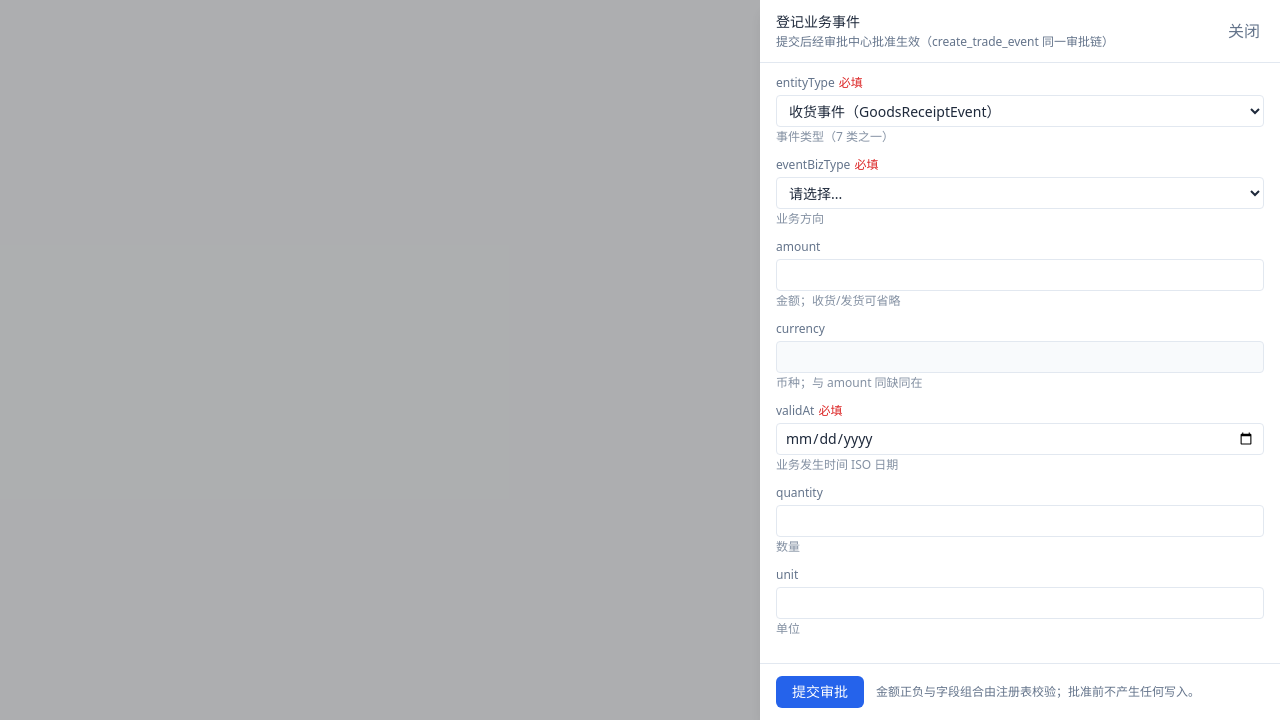
EventRegisterDrawer amount/currency 双向联动 › 方向二：amount 重新有值，currency 恢复可用并回到预填 CNY
Clear the number field labelled "amount": (1020, 275) top-left (776, 259), bottom-right (1264, 291)
Expected: the field labelled "currency" is disabled, top-left (776, 341), bottom-right (1264, 373)
In the number field labelled "amount": (1020, 275) top-left (776, 259), bottom-right (1264, 291), type "800"
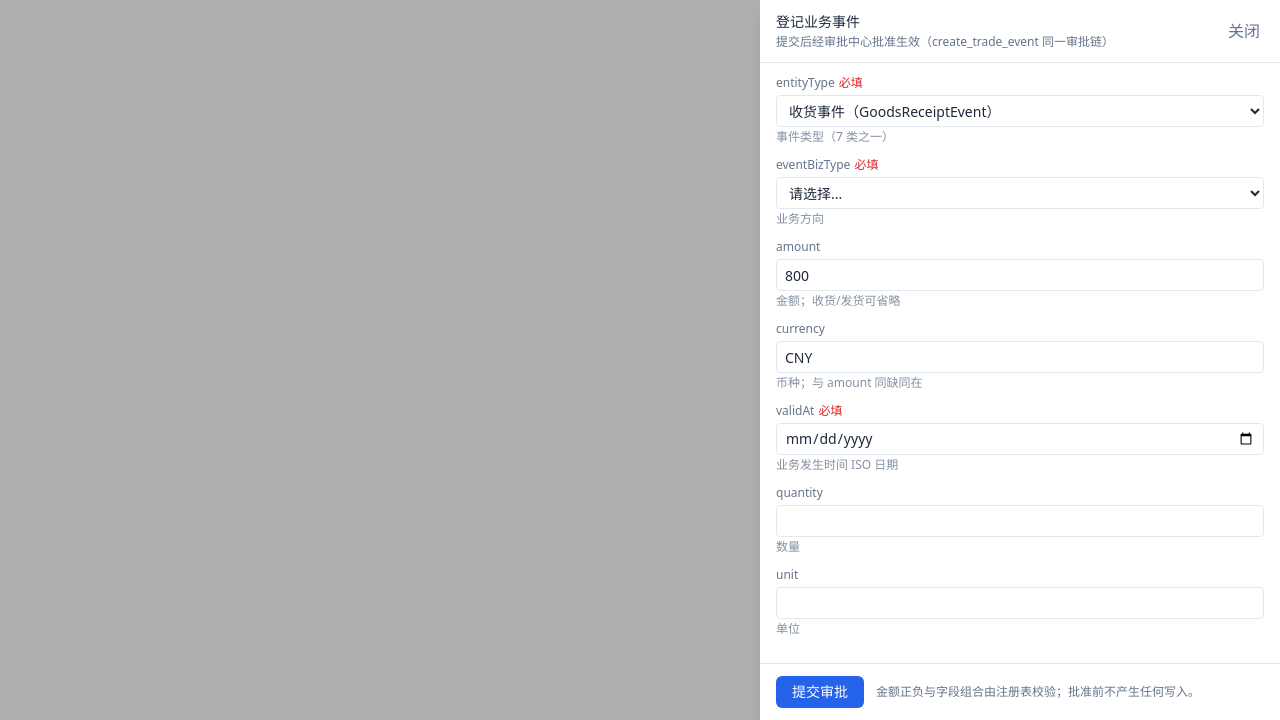
Expected: the field labelled "currency" is enabled, top-left (776, 341), bottom-right (1264, 373)
Expected: the field labelled "currency" holds "CNY", top-left (776, 341), bottom-right (1264, 373)
